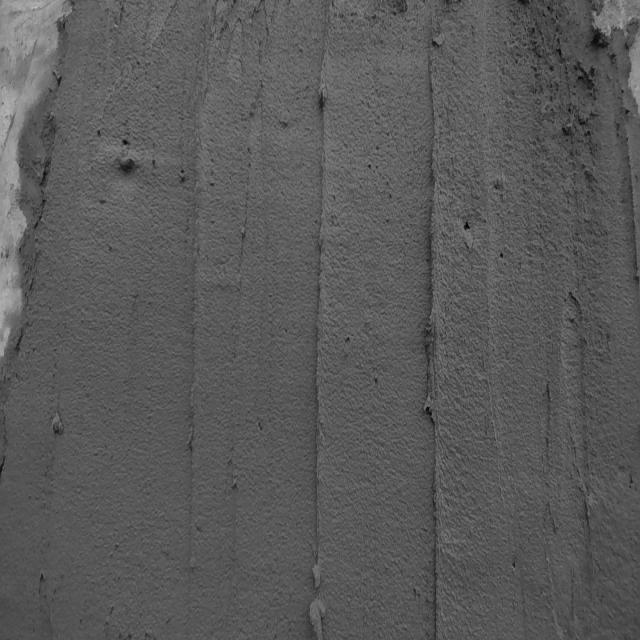trowels marks: (306, 24, 341, 640), (420, 25, 449, 640), (184, 125, 206, 618)
